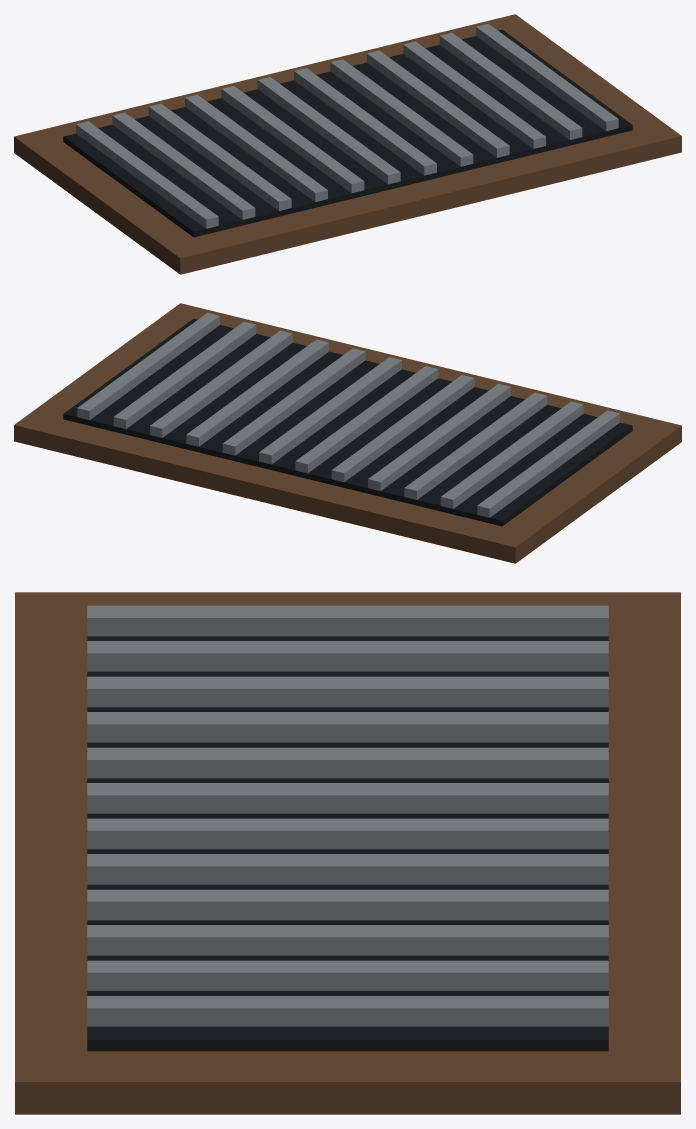
Rendered from storm-drain.glb.
The picture shows the model from 3 angles, top to bottom: view 1: azimuth 30°, elevation 25°; view 2: azimuth 150°, elevation 25°; view 3: azimuth 270°, elevation 25°; orthographic projection. The views are drawn at different scales.
Visible parts, largest first — view 1: Cast iron surround, Dark opening, Drain grate.005, Drain grate.007, Drain grate.001, Drain grate.004, Drain grate.010, Drain grate.002, Drain grate.006, Drain grate.009, Drain grate.003, Drain grate.011 (+2 smaller); view 2: Cast iron surround, Dark opening, Drain grate.005, Drain grate.007, Drain grate.001, Drain grate.004, Drain grate.010, Drain grate.002, Drain grate.006, Drain grate.009, Drain grate.003, Drain grate.011 (+2 smaller); view 3: Cast iron surround, Dark opening, Drain grate, Drain grate.002, Drain grate.004, Drain grate.006, Drain grate.008, Drain grate.001, Drain grate.003, Drain grate.005, Drain grate.007, Drain grate.009 (+2 smaller).
Boxes of the visible parts, box(x1,y1,x2,y2) form: Cast iron surround: box(14, 14, 681, 274); Dark opening: box(63, 29, 632, 237); Drain grate.005: box(257, 77, 400, 184); Drain grate.007: box(330, 59, 473, 166); Drain grate.001: box(112, 112, 255, 219); Drain grate.004: box(221, 86, 364, 193); Drain grate.010: box(439, 32, 582, 139); Drain grate.002: box(148, 103, 291, 210); Drain grate.006: box(294, 68, 436, 175); Drain grate.009: box(403, 41, 545, 148); Drain grate.003: box(185, 94, 327, 201); Drain grate.011: box(476, 23, 618, 131); Cast iron surround: box(14, 303, 681, 563); Dark opening: box(63, 318, 632, 526); Drain grate.005: box(295, 366, 438, 473); Drain grate.007: box(222, 348, 365, 455); Drain grate.001: box(440, 401, 583, 508); Drain grate.004: box(331, 375, 474, 482); Drain grate.010: box(113, 321, 256, 428); Drain grate.002: box(404, 392, 547, 499); Drain grate.006: box(259, 357, 401, 464); Drain grate.009: box(150, 330, 292, 437); Drain grate.003: box(368, 383, 510, 490); Drain grate.011: box(77, 312, 219, 420); Cast iron surround: box(15, 592, 680, 1114); Dark opening: box(87, 636, 608, 1051); Drain grate: box(87, 605, 608, 636); Drain grate.002: box(87, 676, 608, 707); Drain grate.004: box(87, 747, 608, 778); Drain grate.006: box(87, 818, 608, 849); Drain grate.008: box(87, 889, 608, 920); Drain grate.001: box(87, 641, 608, 671); Drain grate.003: box(87, 712, 608, 742); Drain grate.005: box(87, 783, 608, 813); Drain grate.007: box(87, 854, 608, 884); Drain grate.009: box(87, 925, 608, 955).
Size of the model in its own units: 0.8 by 0.0475 by 0.46.
